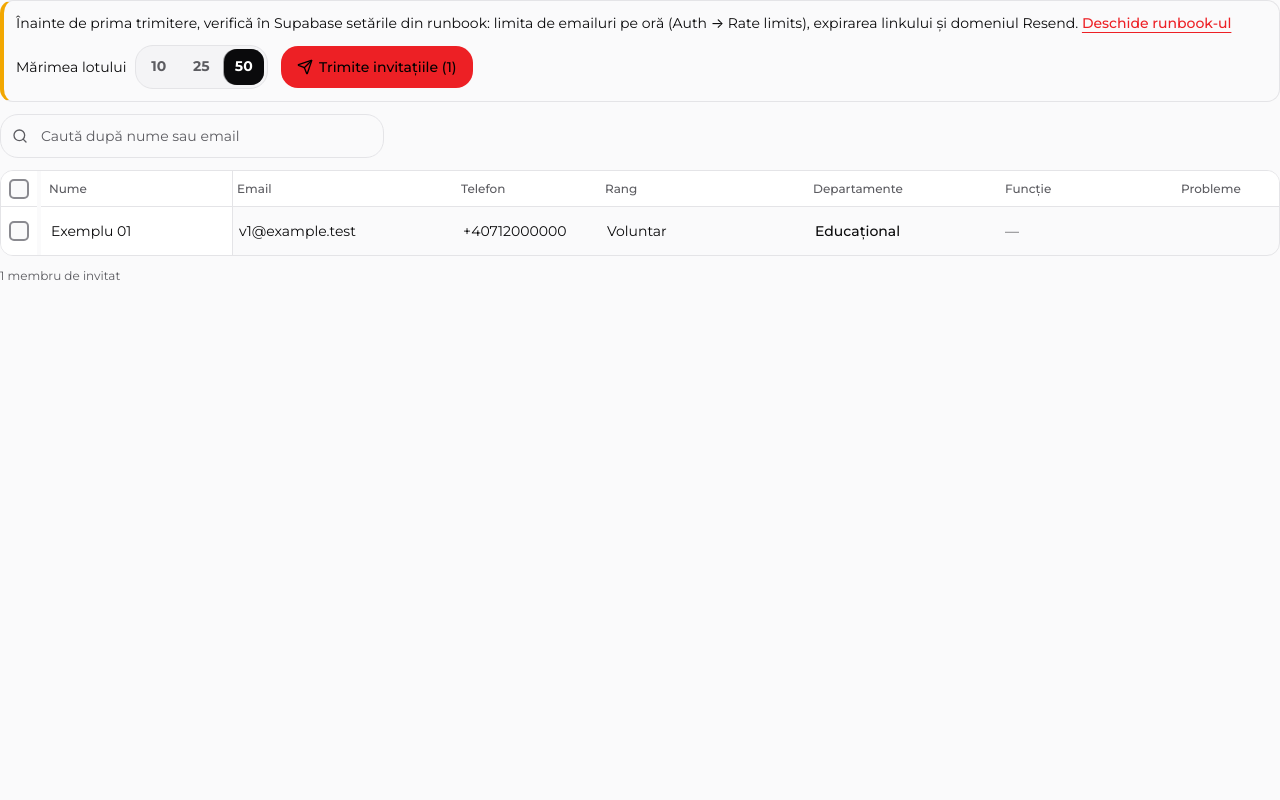
Scenario: inline edits › refuses an invalid phone in place and saves nothing; Escape puts it back
Step 1. Click the button named "Editează telefonul pentru Exemplu 01" → (525, 231), box [457,211,593,251]
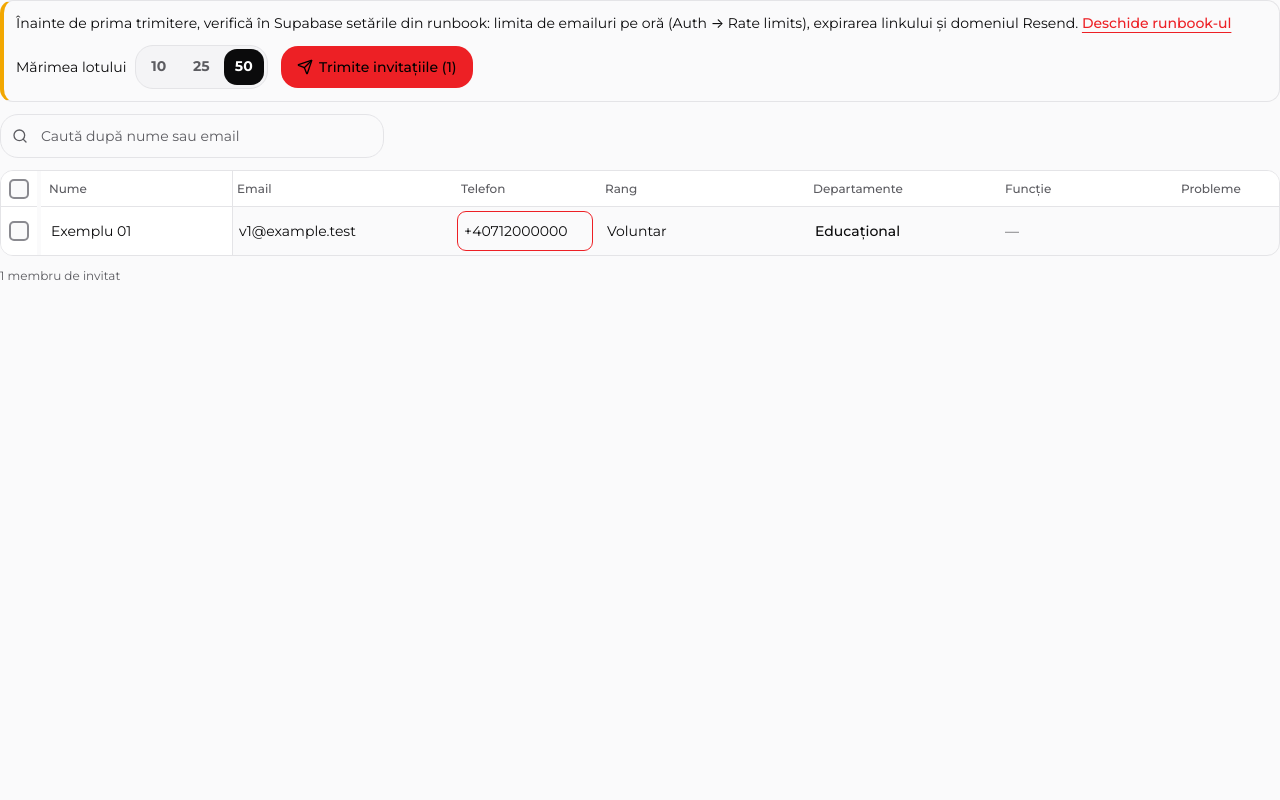
Step 2. Replace the text in the field named "Telefonul pentru Exemplu 01" with "12" → (525, 231), box [457,211,593,251]
Then press Enter
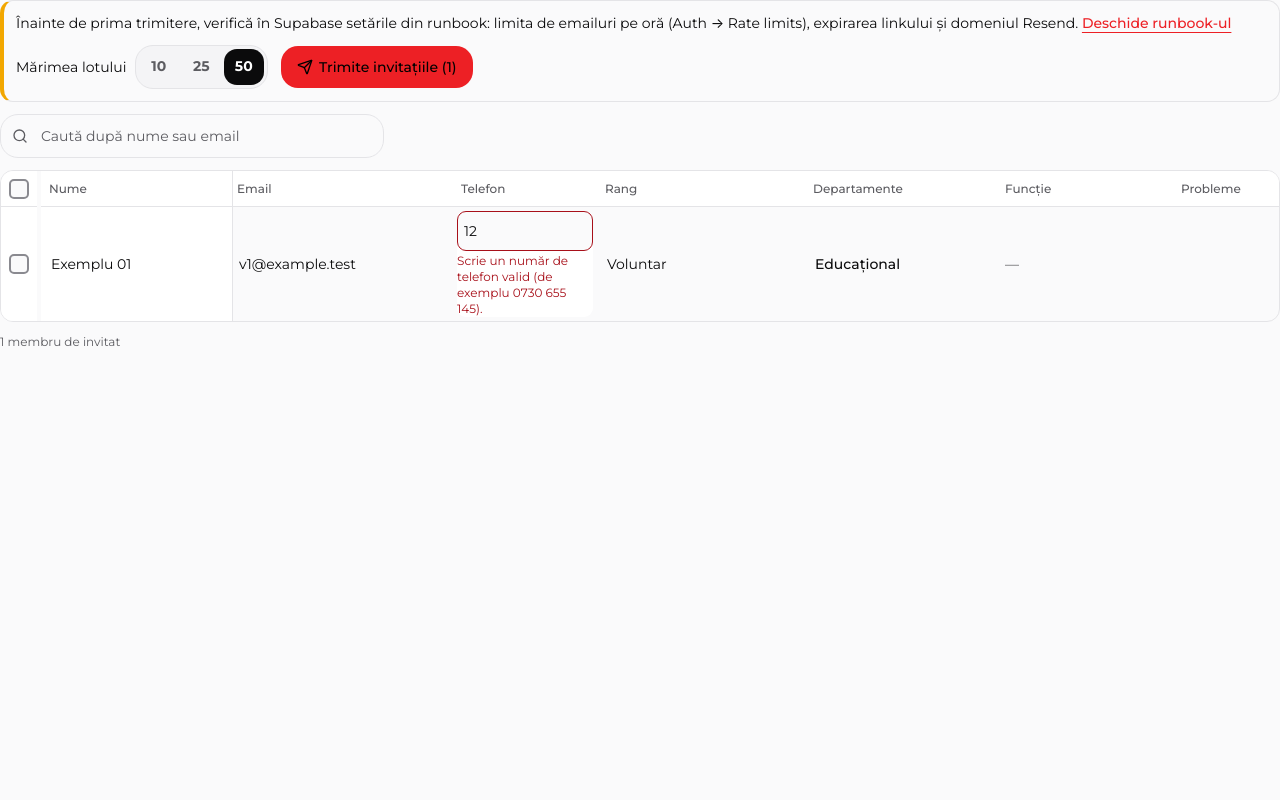
Check: the message "Scrie un număr de telefon valid (de exemplu 0730 655 145)." is shown, box [457,253,568,316]
Step 3. Press Escape
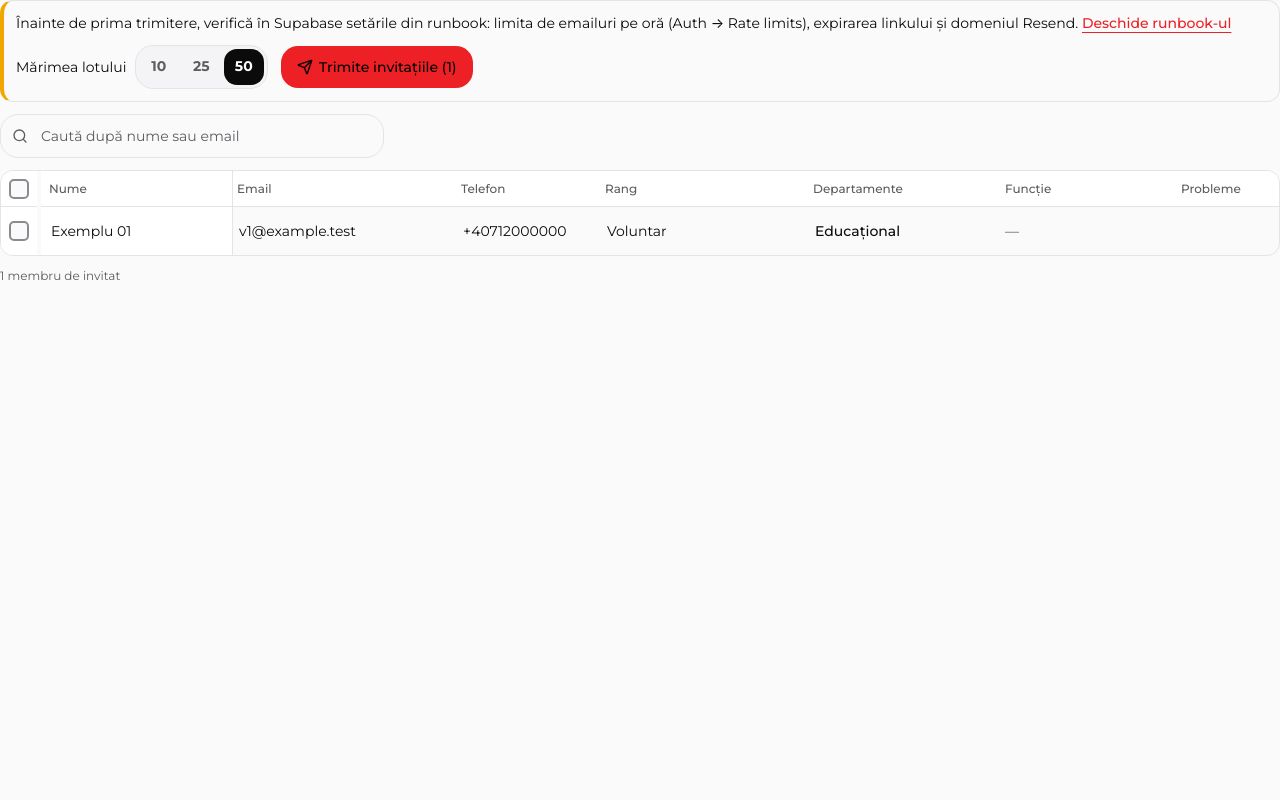
Check: the button named "Editează telefonul pentru Exemplu 01" reads "+40712000000", box [457,211,593,251]
